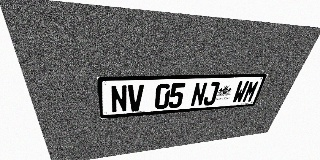0: (154, 83, 171, 110)
5: (168, 83, 186, 109)
J: (202, 82, 220, 106)
M: (241, 80, 260, 103)
N: (110, 85, 127, 113), (190, 82, 208, 107)
V: (128, 84, 144, 112)
W: (231, 81, 250, 103)
